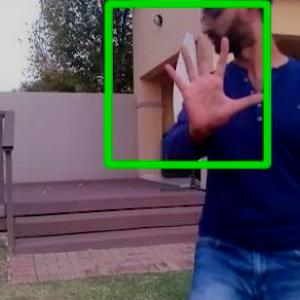follow_hand: (160, 28, 265, 132)
